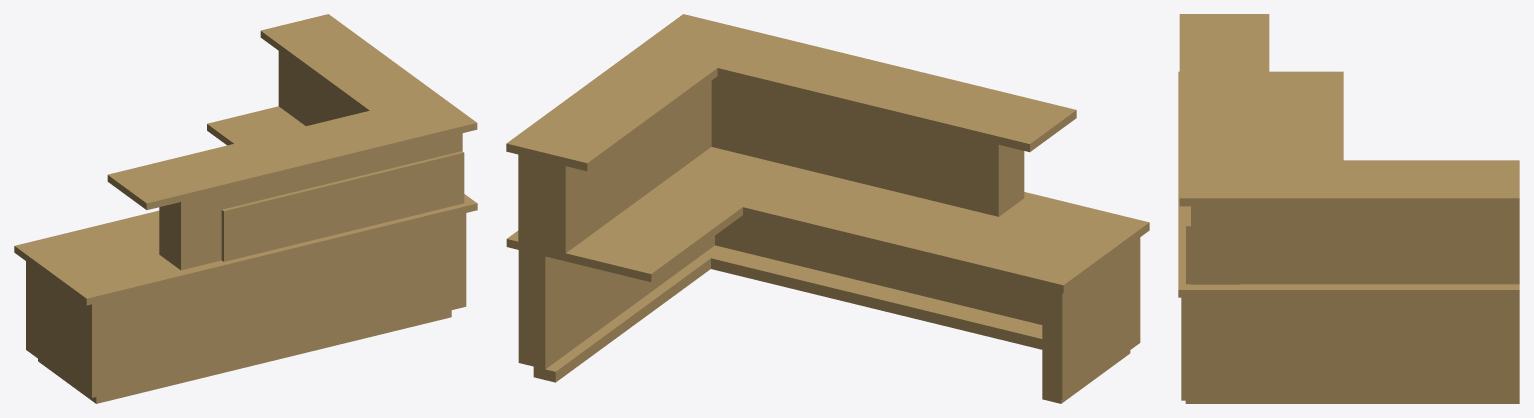
File: CornerDesk.fbx
The picture shows the model from 3 angles, left to right: view 1: azimuth 30°, elevation 25°; view 2: azimuth 150°, elevation 25°; view 3: azimuth 270°, elevation 25°; orthographic projection. The views are drawn at different scales.
Parts seen in each view (by area): view 1: HospitalDesk; view 2: HospitalDesk; view 3: HospitalDesk.
Part boxes in pixels (left/top/right/bottom): HospitalDesk: left=14, top=14, right=477, bottom=403; HospitalDesk: left=506, top=14, right=1149, bottom=403; HospitalDesk: left=1178, top=14, right=1519, bottom=403.
Bounding box in the file's own units: 18.74 × 8.74 × 12.39.
